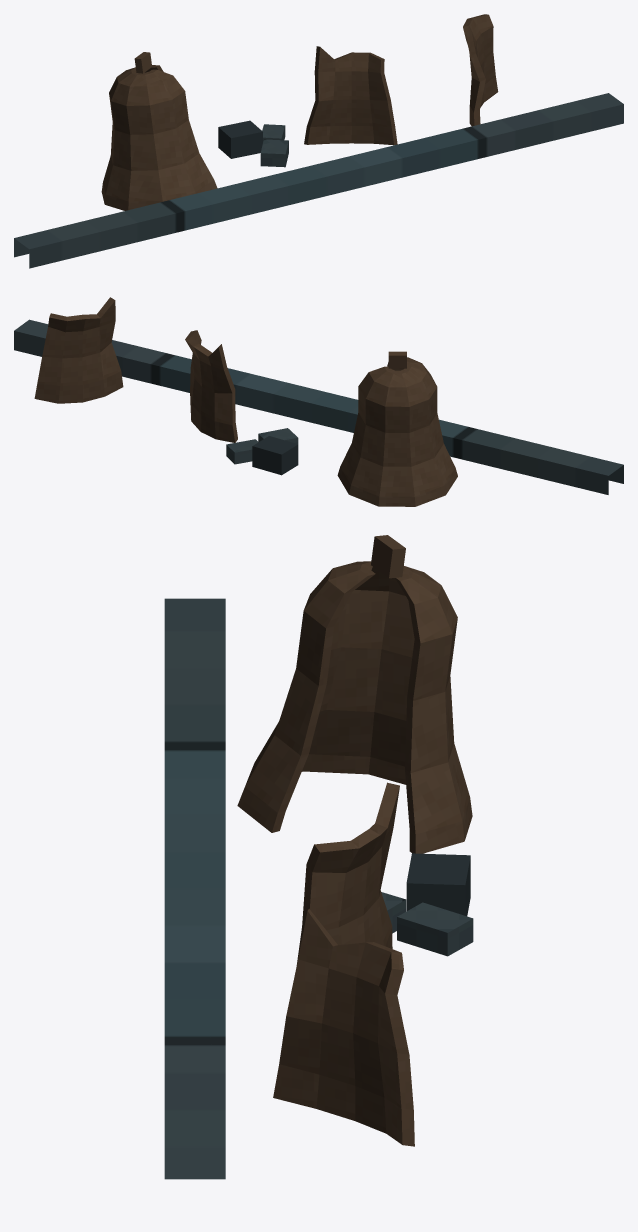
Rendered from T1_Lane_End_A.fbx.
The picture shows the model from 3 angles, top to bottom: view 1: azimuth 30°, elevation 25°; view 2: azimuth 150°, elevation 25°; view 3: azimuth 270°, elevation 25°; orthographic projection. The views are drawn at different scales.
Parts seen in each view (by area): view 1: T1_Lane_End_A; view 2: T1_Lane_End_A; view 3: T1_Lane_End_A.
Part boxes in pixels (x1,y1,x2,y2): T1_Lane_End_A: (14, 14, 623, 268); T1_Lane_End_A: (14, 297, 623, 506); T1_Lane_End_A: (164, 535, 473, 1179).
Size of the model in its own units: 4.5 by 0.9989 by 1.01.
